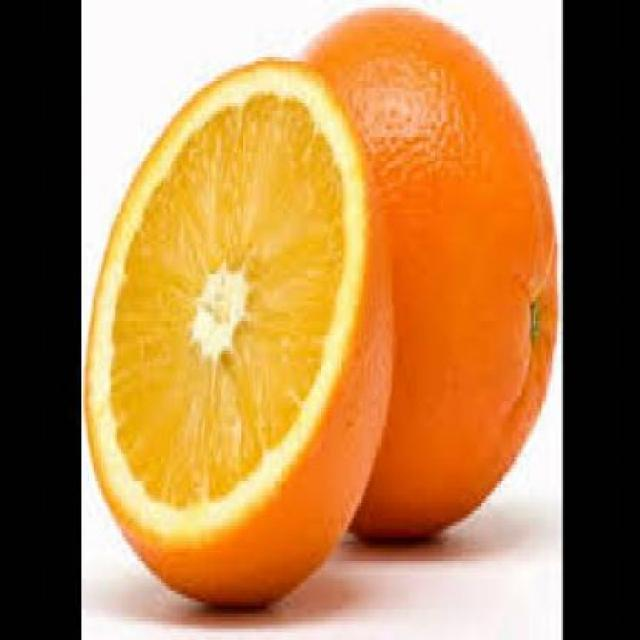BIODEGRADABLE: (83, 57, 392, 601), (300, 4, 557, 545)
